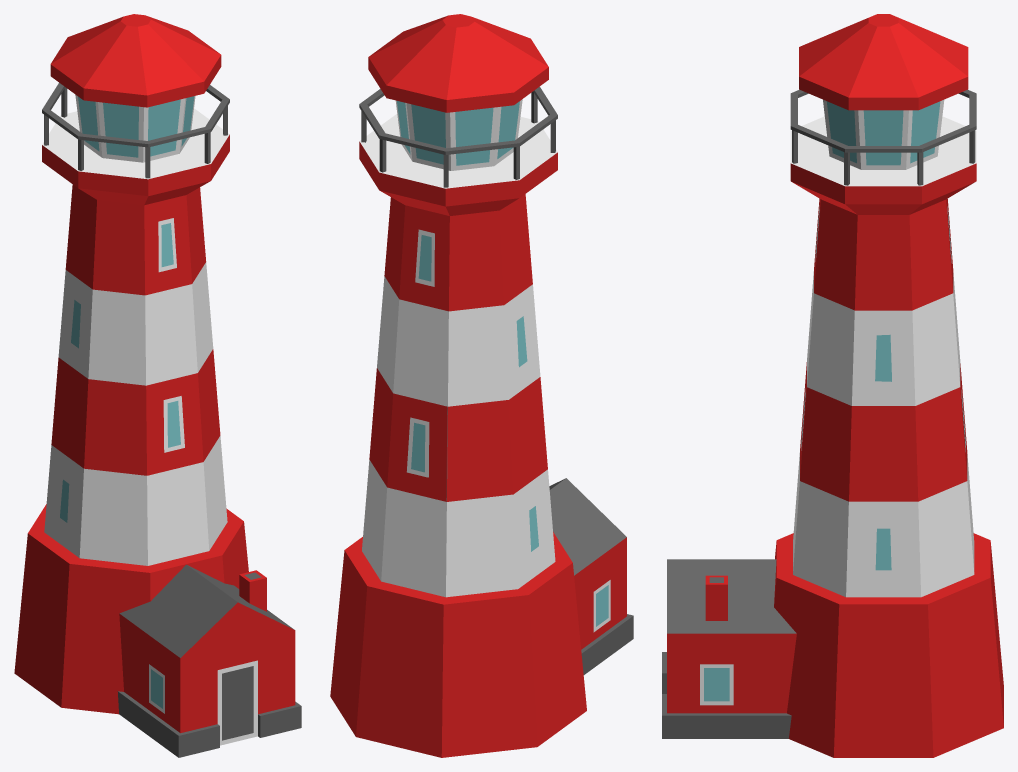
3 views of the same model, side by side, from view 1: azimuth 30°, elevation 25°; view 2: azimuth 150°, elevation 25°; view 3: azimuth 270°, elevation 25° (orthographic). The views are drawn at different scales.
Parts seen in each view (by area): view 1: lighthouse; view 2: lighthouse; view 3: lighthouse.
Boxes of the visible parts, bbox=[...] form: lighthouse: bbox=[14, 14, 301, 757]; lighthouse: bbox=[330, 14, 633, 757]; lighthouse: bbox=[662, 14, 1003, 757].
Size of the model in its own units: 158 by 499 by 225.
Materials: 1 (1 with a texture image).
